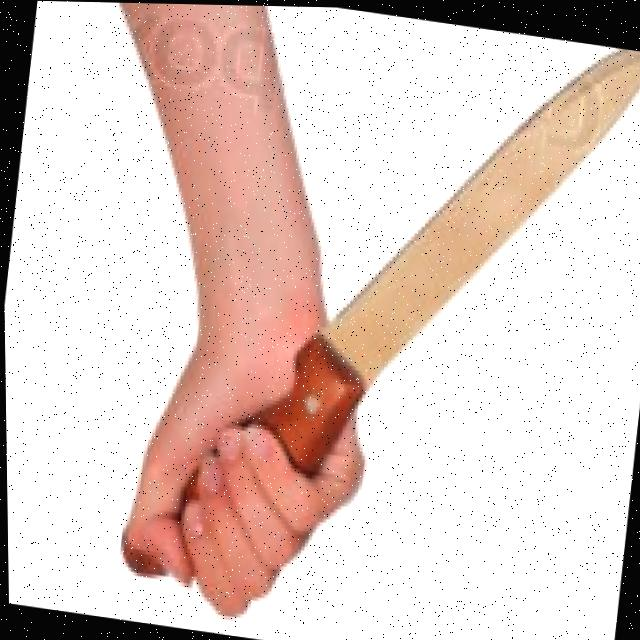knife: (265, 5, 640, 505)
